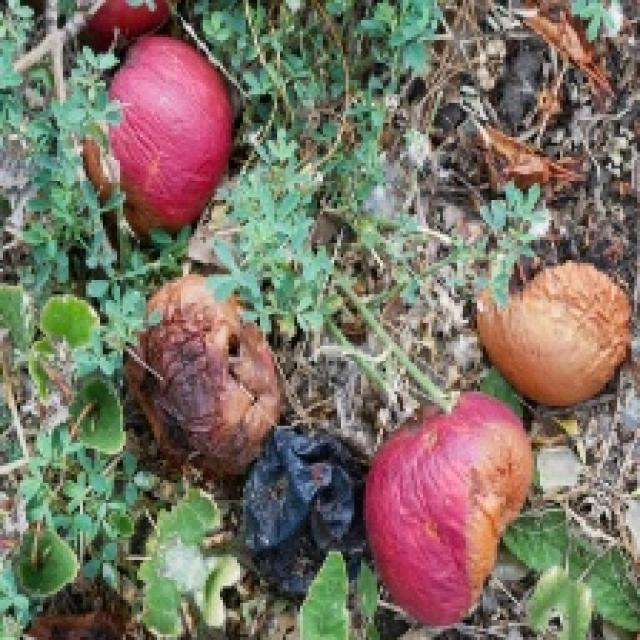rotten_apple: (372, 400, 530, 619), (142, 279, 277, 461), (479, 264, 637, 392)
